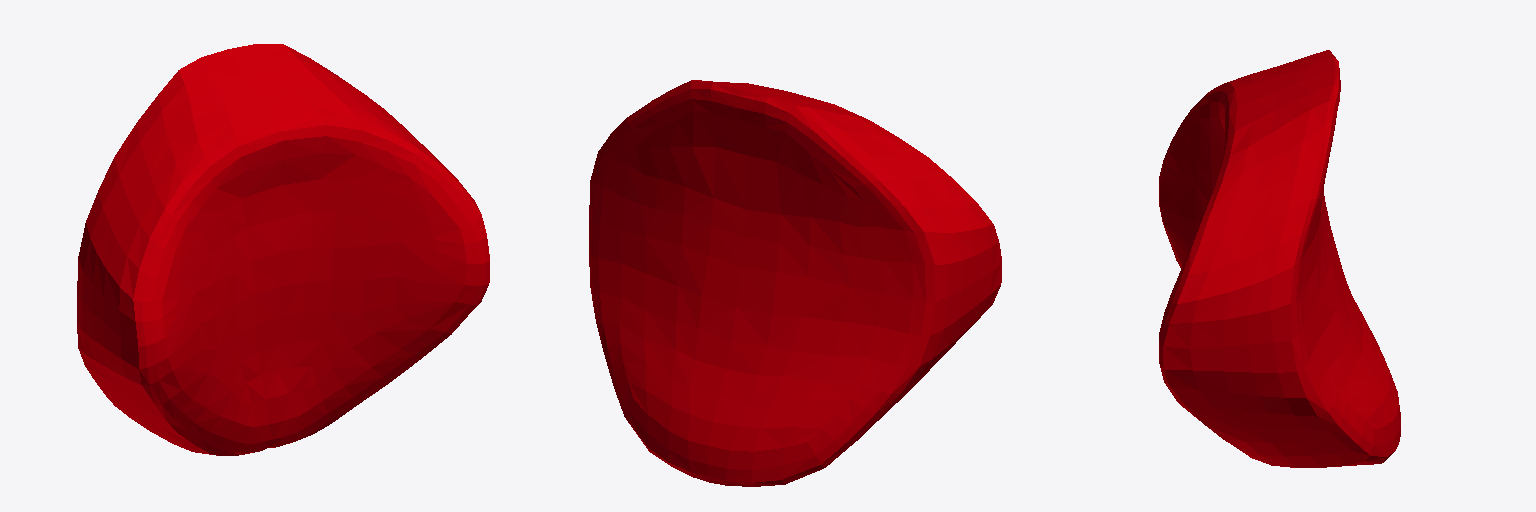
File: Abdomen.obj
3 renders of one model, left to right at view 1: azimuth 30°, elevation 25°; view 2: azimuth 150°, elevation 25°; view 3: azimuth 270°, elevation 25°, orthographic.
Parts seen in each view (by area): view 1: Abdomen_Alpha_Surface.009; view 2: Abdomen_Alpha_Surface.009; view 3: Abdomen_Alpha_Surface.009.
Part boxes in pixels (left/top/right/bottom): Abdomen_Alpha_Surface.009: left=77, top=44, right=489, bottom=455; Abdomen_Alpha_Surface.009: left=589, top=80, right=1001, bottom=486; Abdomen_Alpha_Surface.009: left=1159, top=50, right=1400, bottom=467.
Bounding box in the file's own units: 0.2721 × 0.2685 × 0.1584.